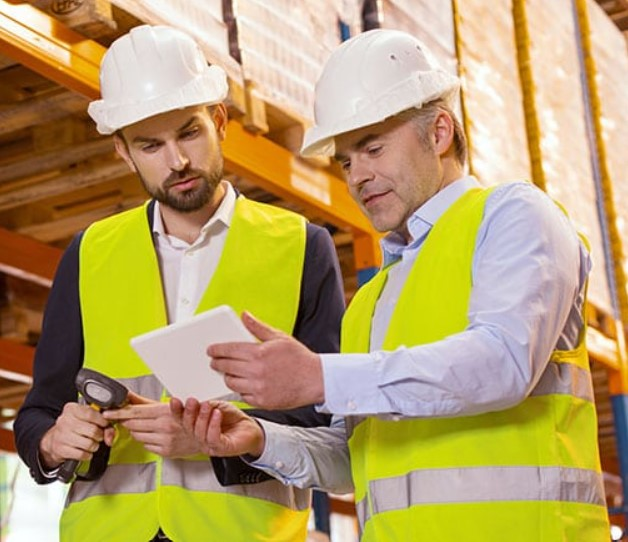worker: (303, 29, 608, 542), (58, 24, 311, 542)
